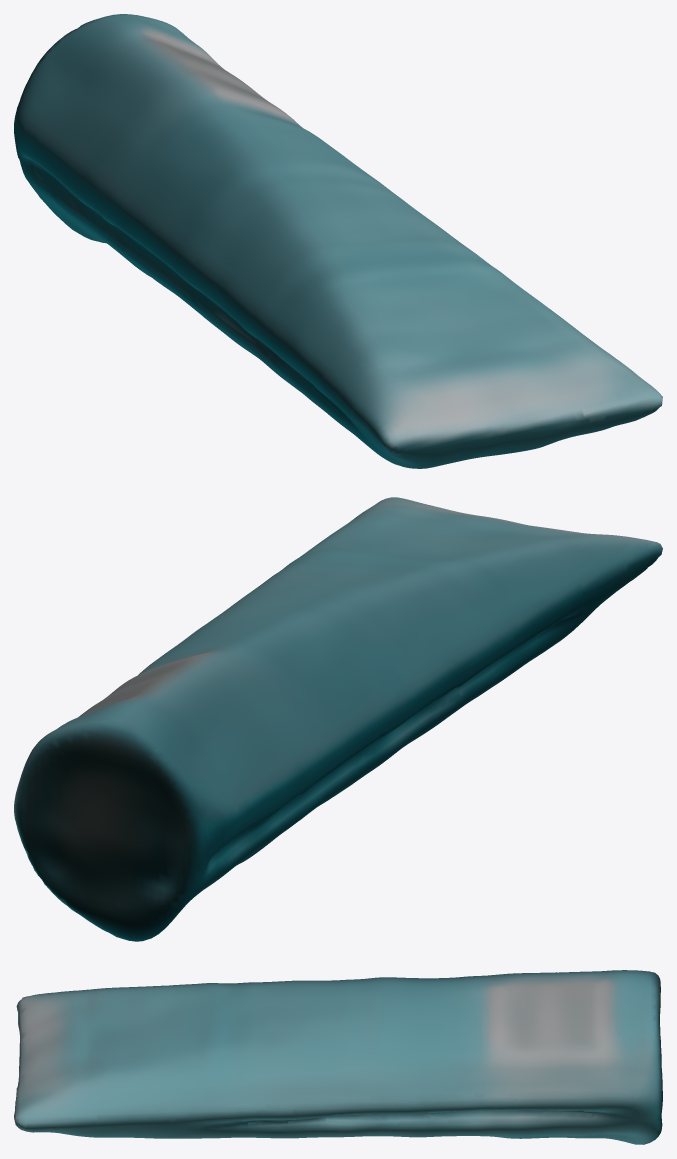
Rendered from oil.glb.
The picture shows the model from 3 angles, top to bottom: view 1: azimuth 30°, elevation 25°; view 2: azimuth 150°, elevation 25°; view 3: azimuth 270°, elevation 25°; orthographic projection. The views are drawn at different scales.
Size of the model in its own units: 0.3843 by 0.2884 by 0.9993.
